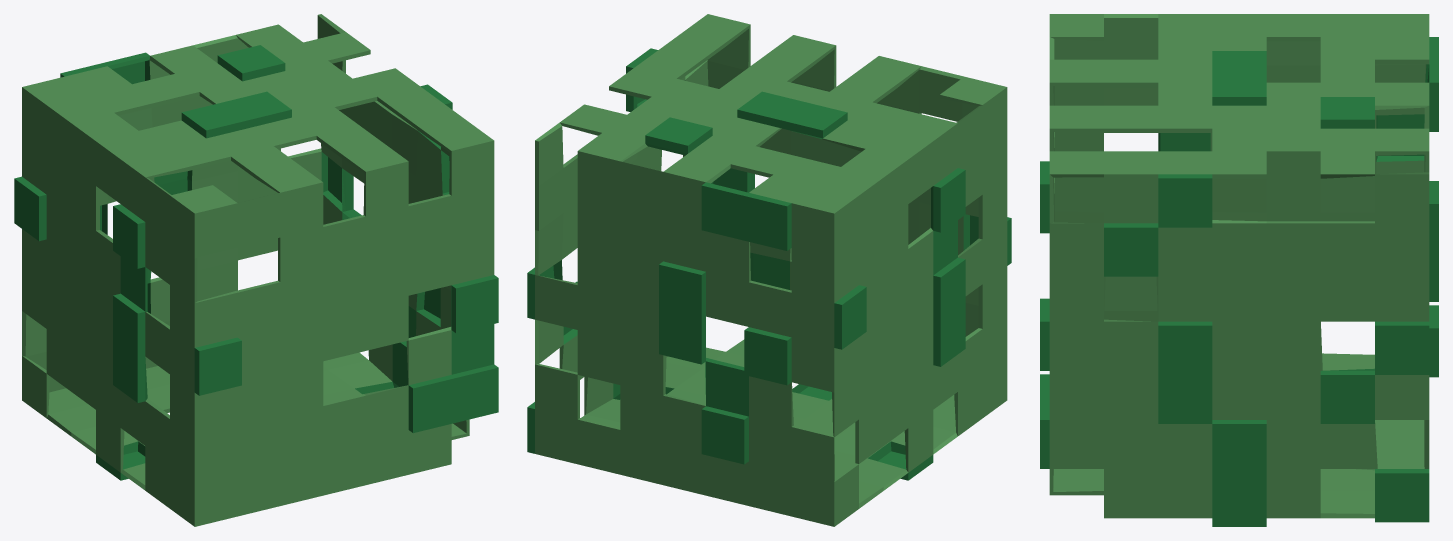
Rendered from ShrubberyBlock.fbx.
3 views of the same model, side by side, from view 1: azimuth 30°, elevation 25°; view 2: azimuth 150°, elevation 25°; view 3: azimuth 270°, elevation 25° (orthographic). The views are drawn at different scales.
Visible parts, largest first — view 1: Cube.024; view 2: Cube.024; view 3: Cube.024.
Part boxes in pixels (x1,y1,x2,y2): Cube.024: (14,14,498,526); Cube.024: (527,14,1011,526); Cube.024: (1040,14,1438,526).
Size of the model in its own units: 105 by 105 by 105.
